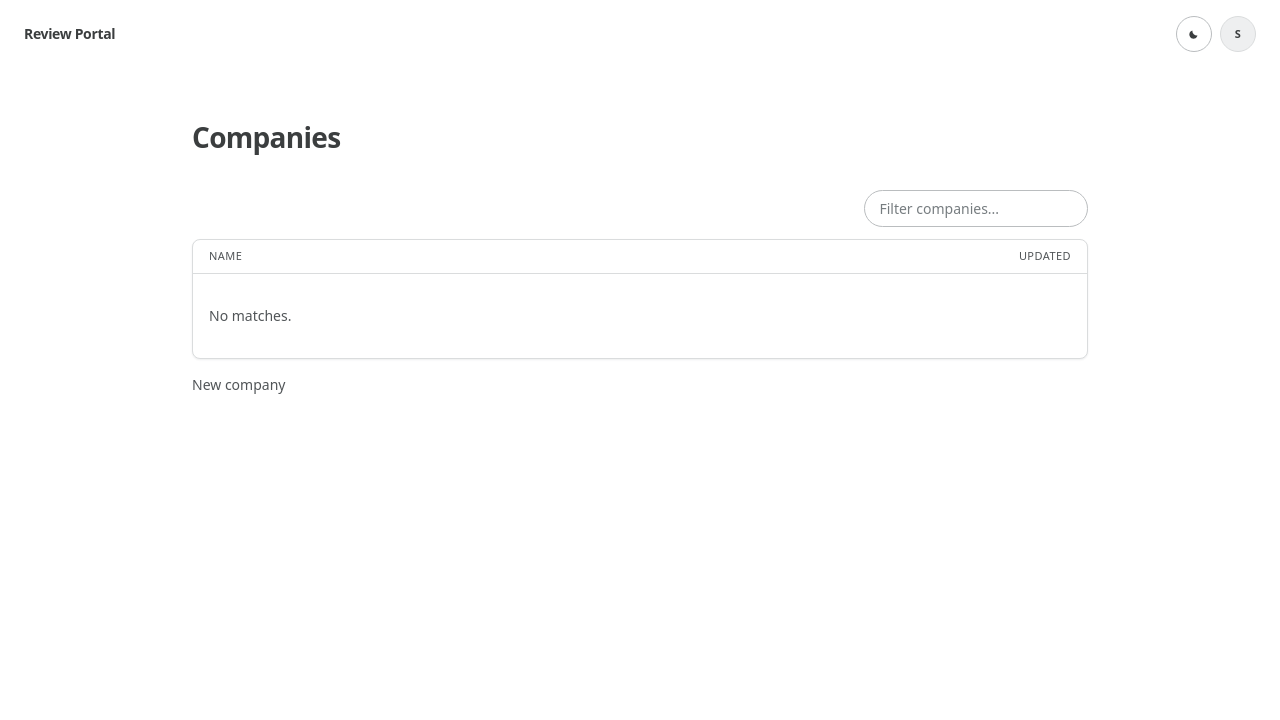
it: login and staff pages › redirects after company creation
The image size is (1280, 720).
Click the heading "New company". click: [239, 384]
box: [192,375,285,394]
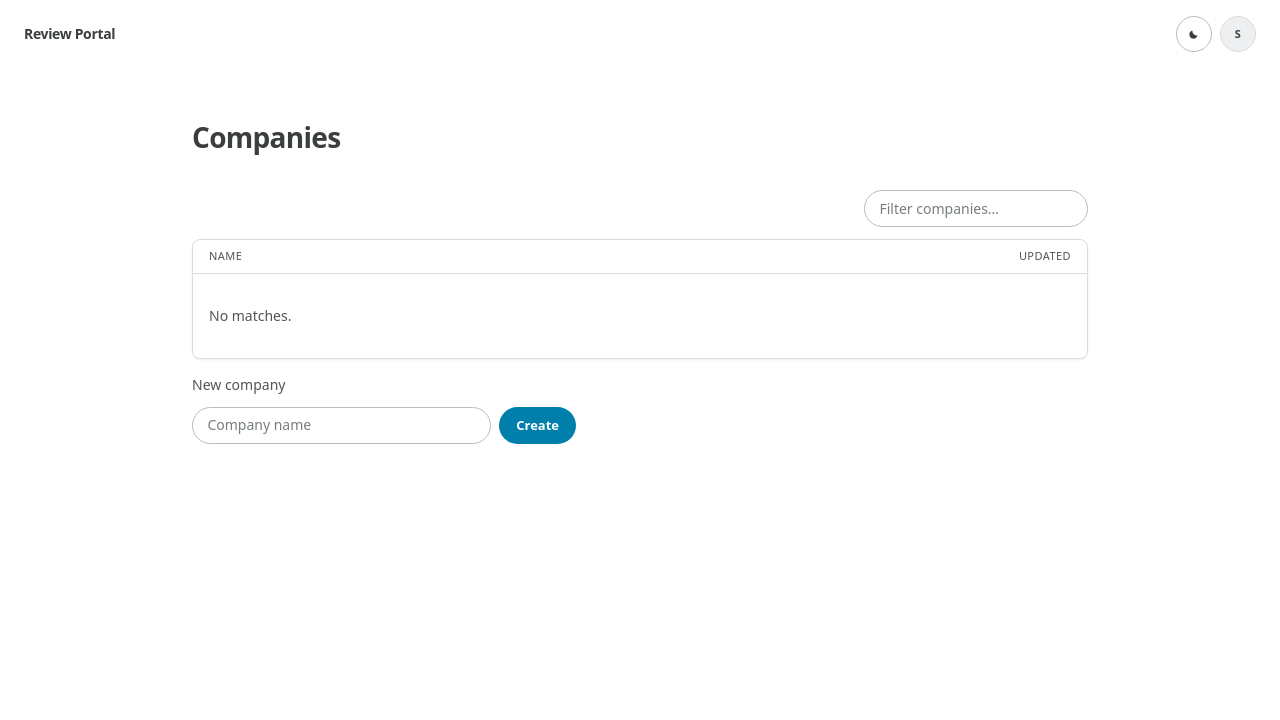
Type "Acme" into the field with placeholder "Company name". click: [342, 425]
box: [192,407,491,444]
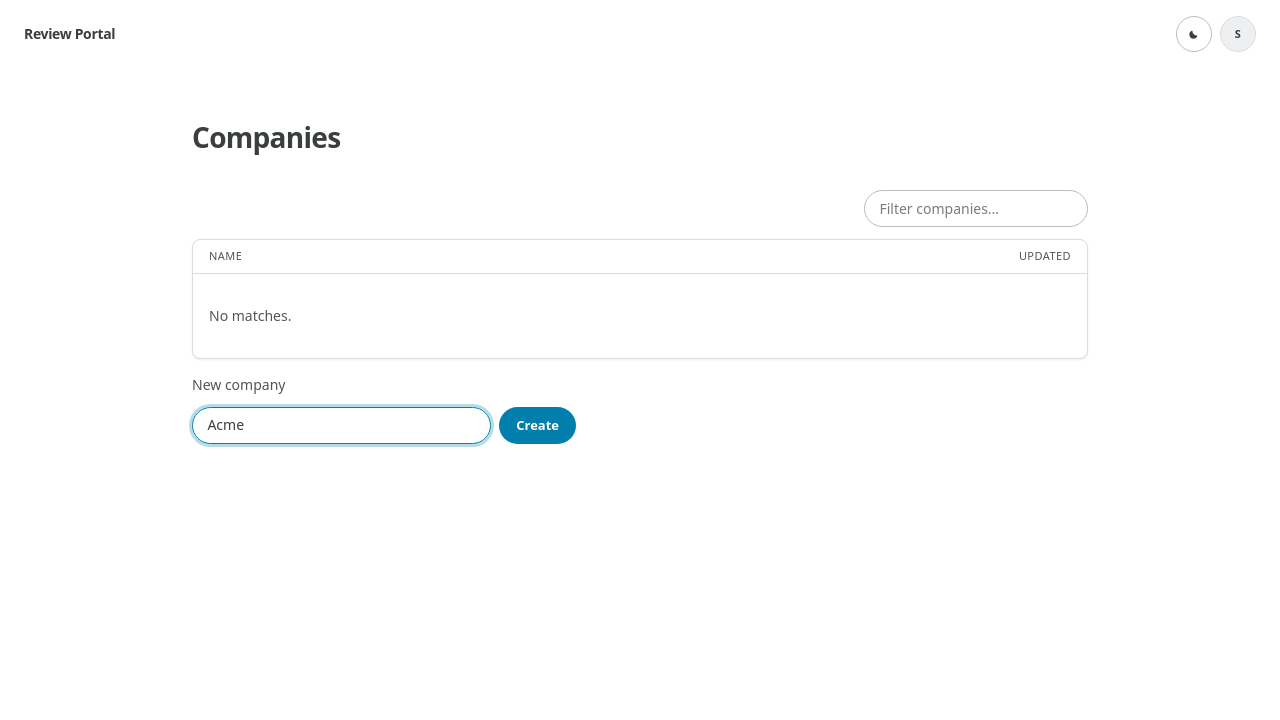
Click the button "Create". click: [538, 425]
box: [499,407,576,444]
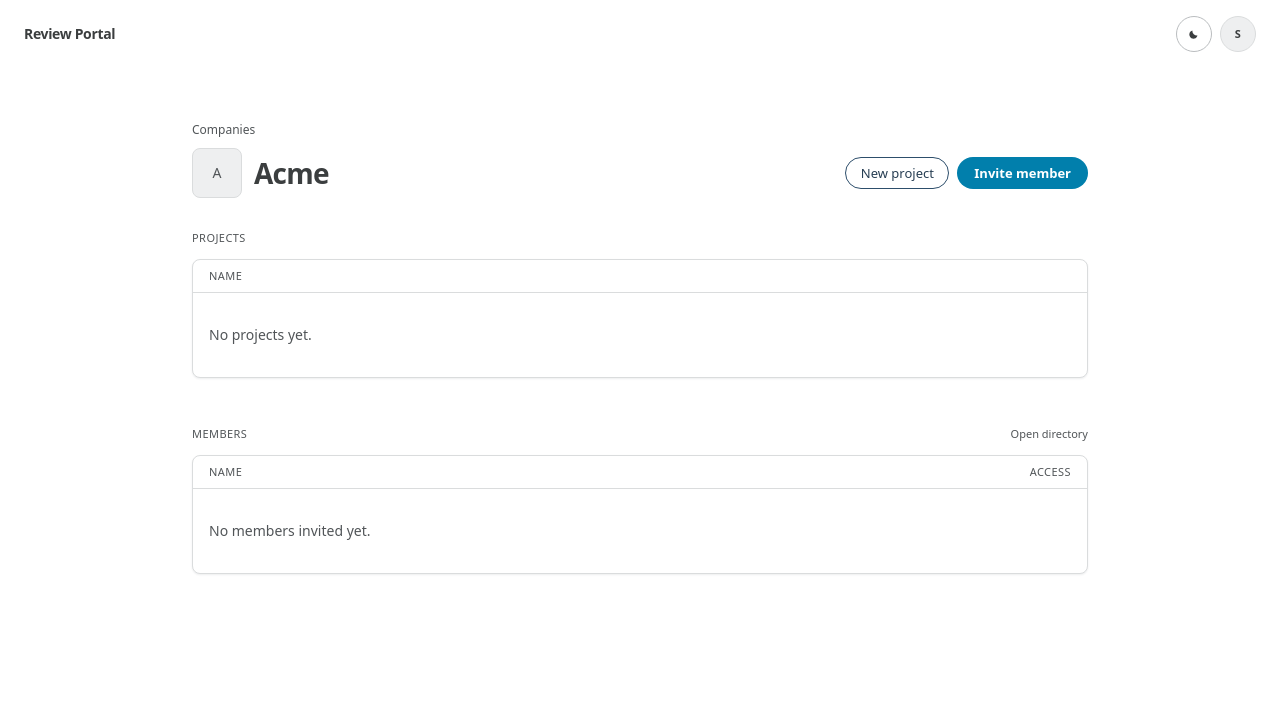
Check: the heading "Acme" is shown, box [254,152,329,194]
